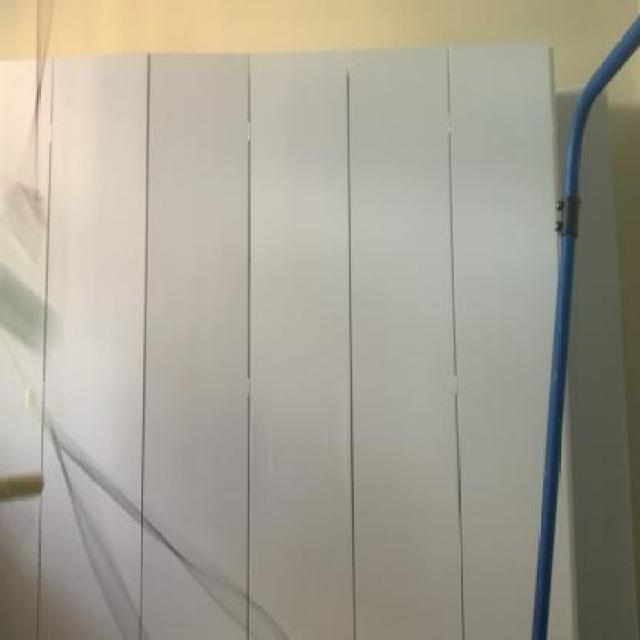baseball: (0, 271, 83, 372)
